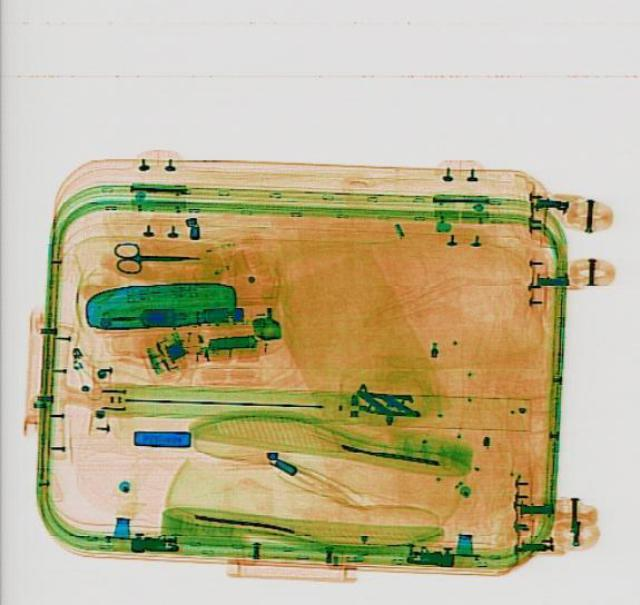Scissors: (110, 241, 200, 271)
